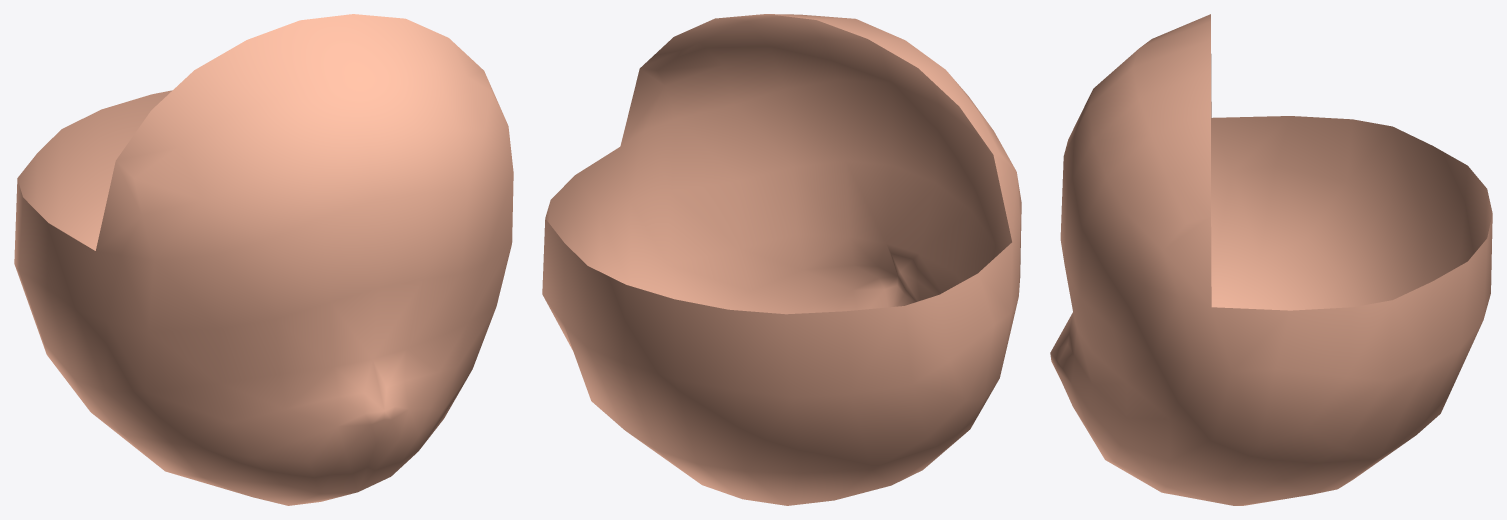
3 renders of one model, left to right at view 1: azimuth 30°, elevation 25°; view 2: azimuth 150°, elevation 25°; view 3: azimuth 270°, elevation 25°, orthographic. The views are drawn at different scales.
Visible parts, largest first — view 1: AF_M_Face_10; view 2: AF_M_Face_10; view 3: AF_M_Face_10.
Part boxes in pixels (left/top/right/bottom): AF_M_Face_10: left=14, top=14, right=513, bottom=505; AF_M_Face_10: left=542, top=14, right=1021, bottom=505; AF_M_Face_10: left=1050, top=14, right=1492, bottom=505.
Bounding box in the file's own units: 718 × 731 × 661.
Materials: 1 (1 with a texture image).
